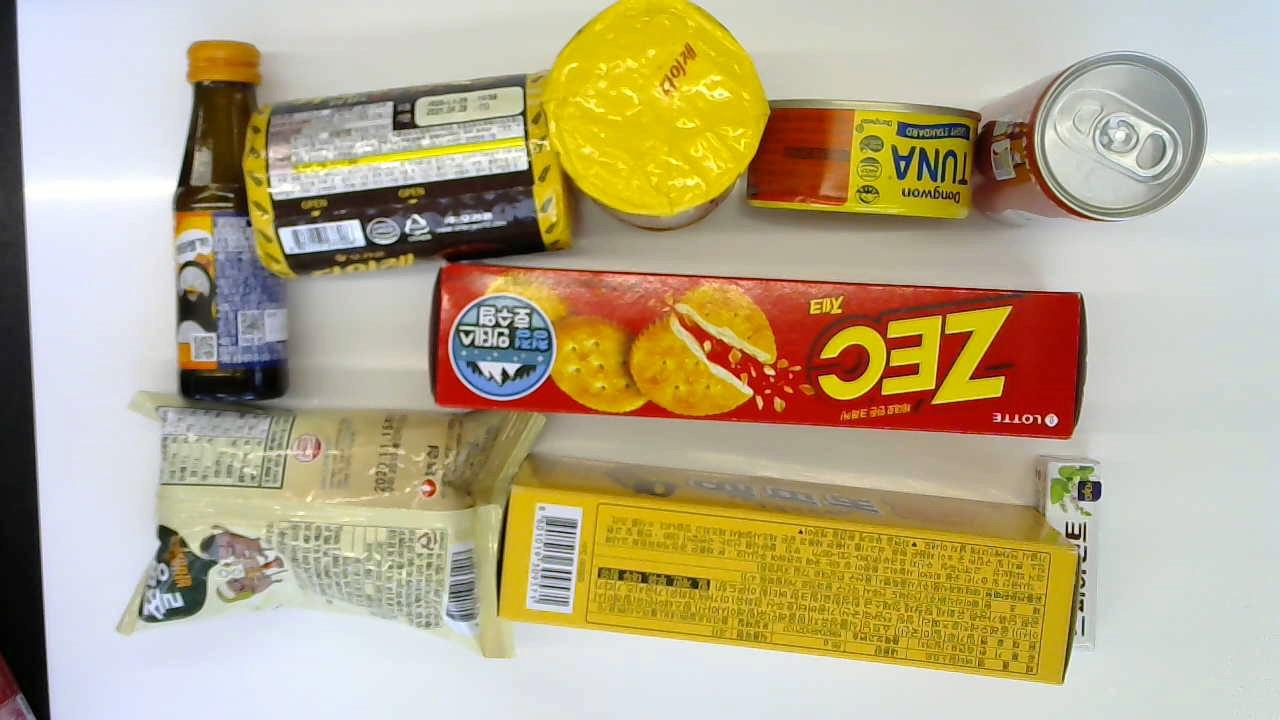buttering: (498, 445, 1080, 691)
coke: (246, 71, 580, 283), (969, 54, 1202, 224)
diget_choco: (246, 71, 580, 283)
diget_ori: (545, 1, 768, 227)
jjolbyung_ori: (109, 391, 553, 673)
spearmint: (1036, 454, 1100, 652)
tuna: (743, 102, 984, 215)
vita500: (174, 35, 290, 406)
zec: (426, 263, 1091, 439)
